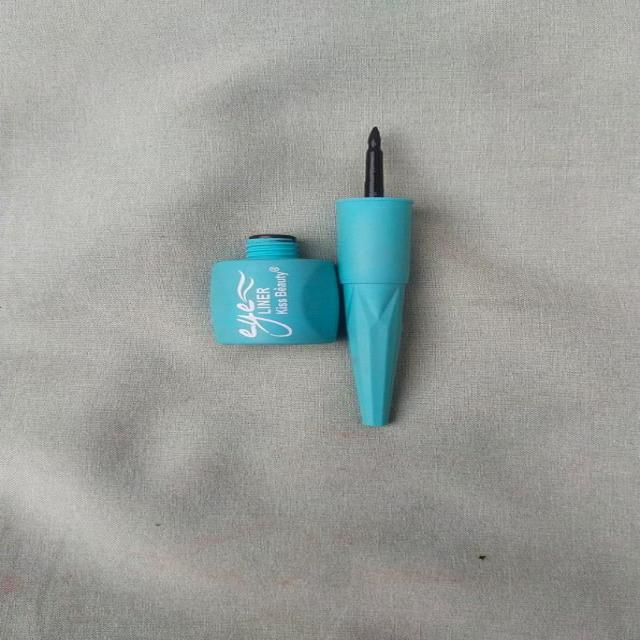eye liner: (189, 108, 474, 432), (330, 110, 452, 442), (173, 207, 349, 355)
